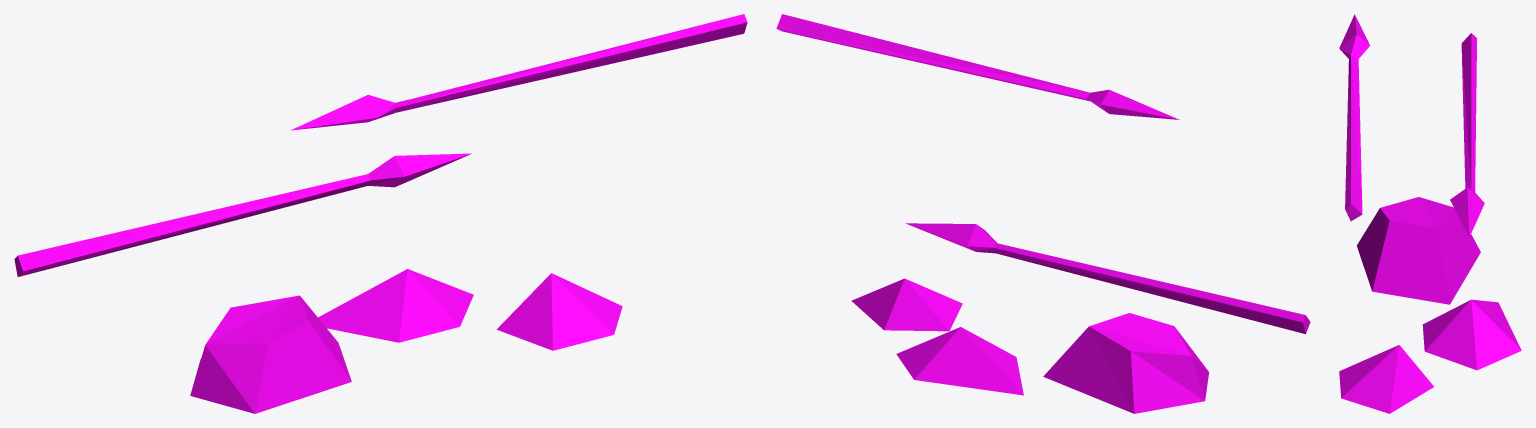
Rendered from cave speartrapa.obj.
The picture shows the model from 3 angles, left to right: view 1: azimuth 30°, elevation 25°; view 2: azimuth 150°, elevation 25°; view 3: azimuth 270°, elevation 25°; orthographic projection. The views are drawn at different scales.
Parts seen in each view (by area): view 1: cave speartrapa_back; view 2: cave speartrapa_back; view 3: cave speartrapa_back.
Part boxes in pixels (x1,y1,x2,y2): cave speartrapa_back: (14, 14, 747, 413); cave speartrapa_back: (776, 14, 1310, 413); cave speartrapa_back: (1339, 14, 1521, 413).
Size of the model in its own units: 3.5 by 1.48 by 0.94.
